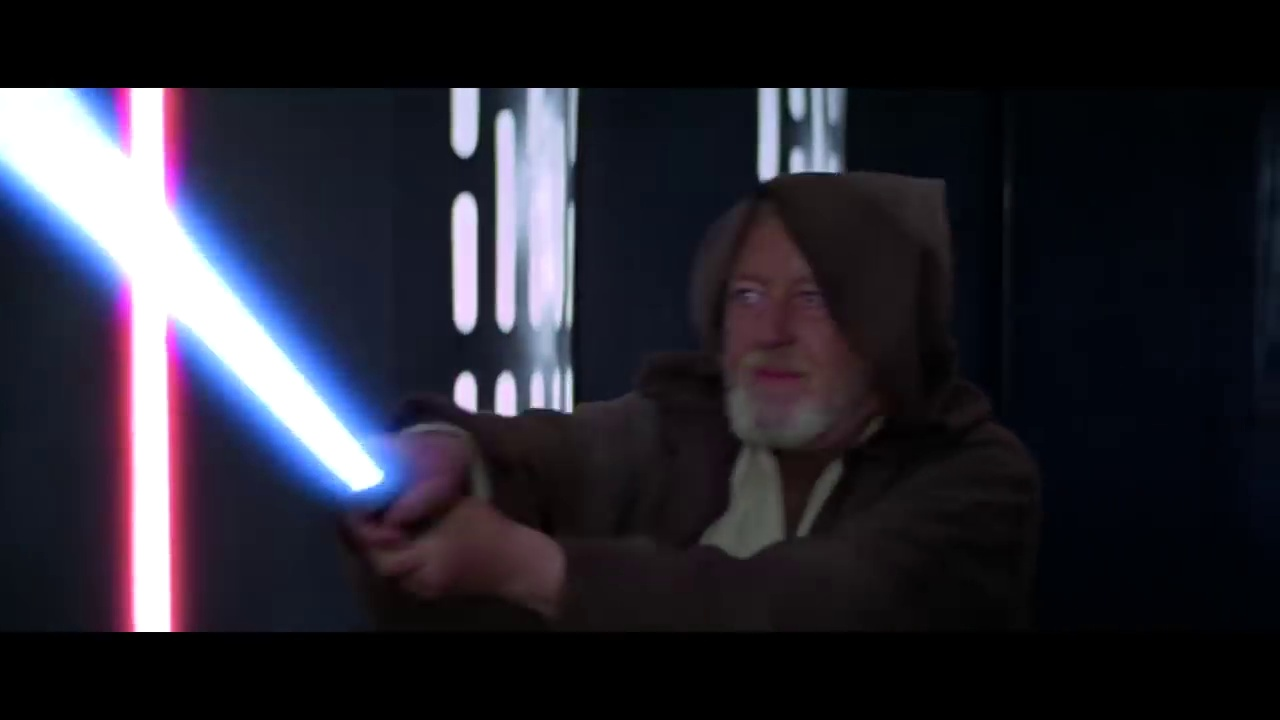lightsaber: (1, 85, 467, 634)
